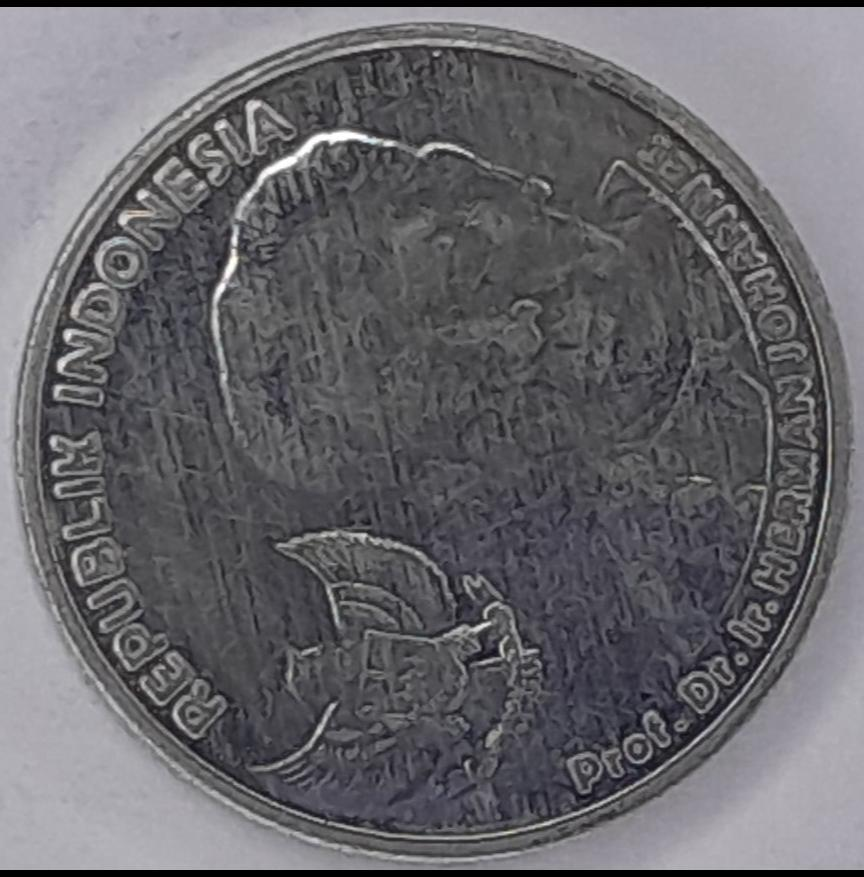coin_100_e2016: (9, 17, 856, 861)
